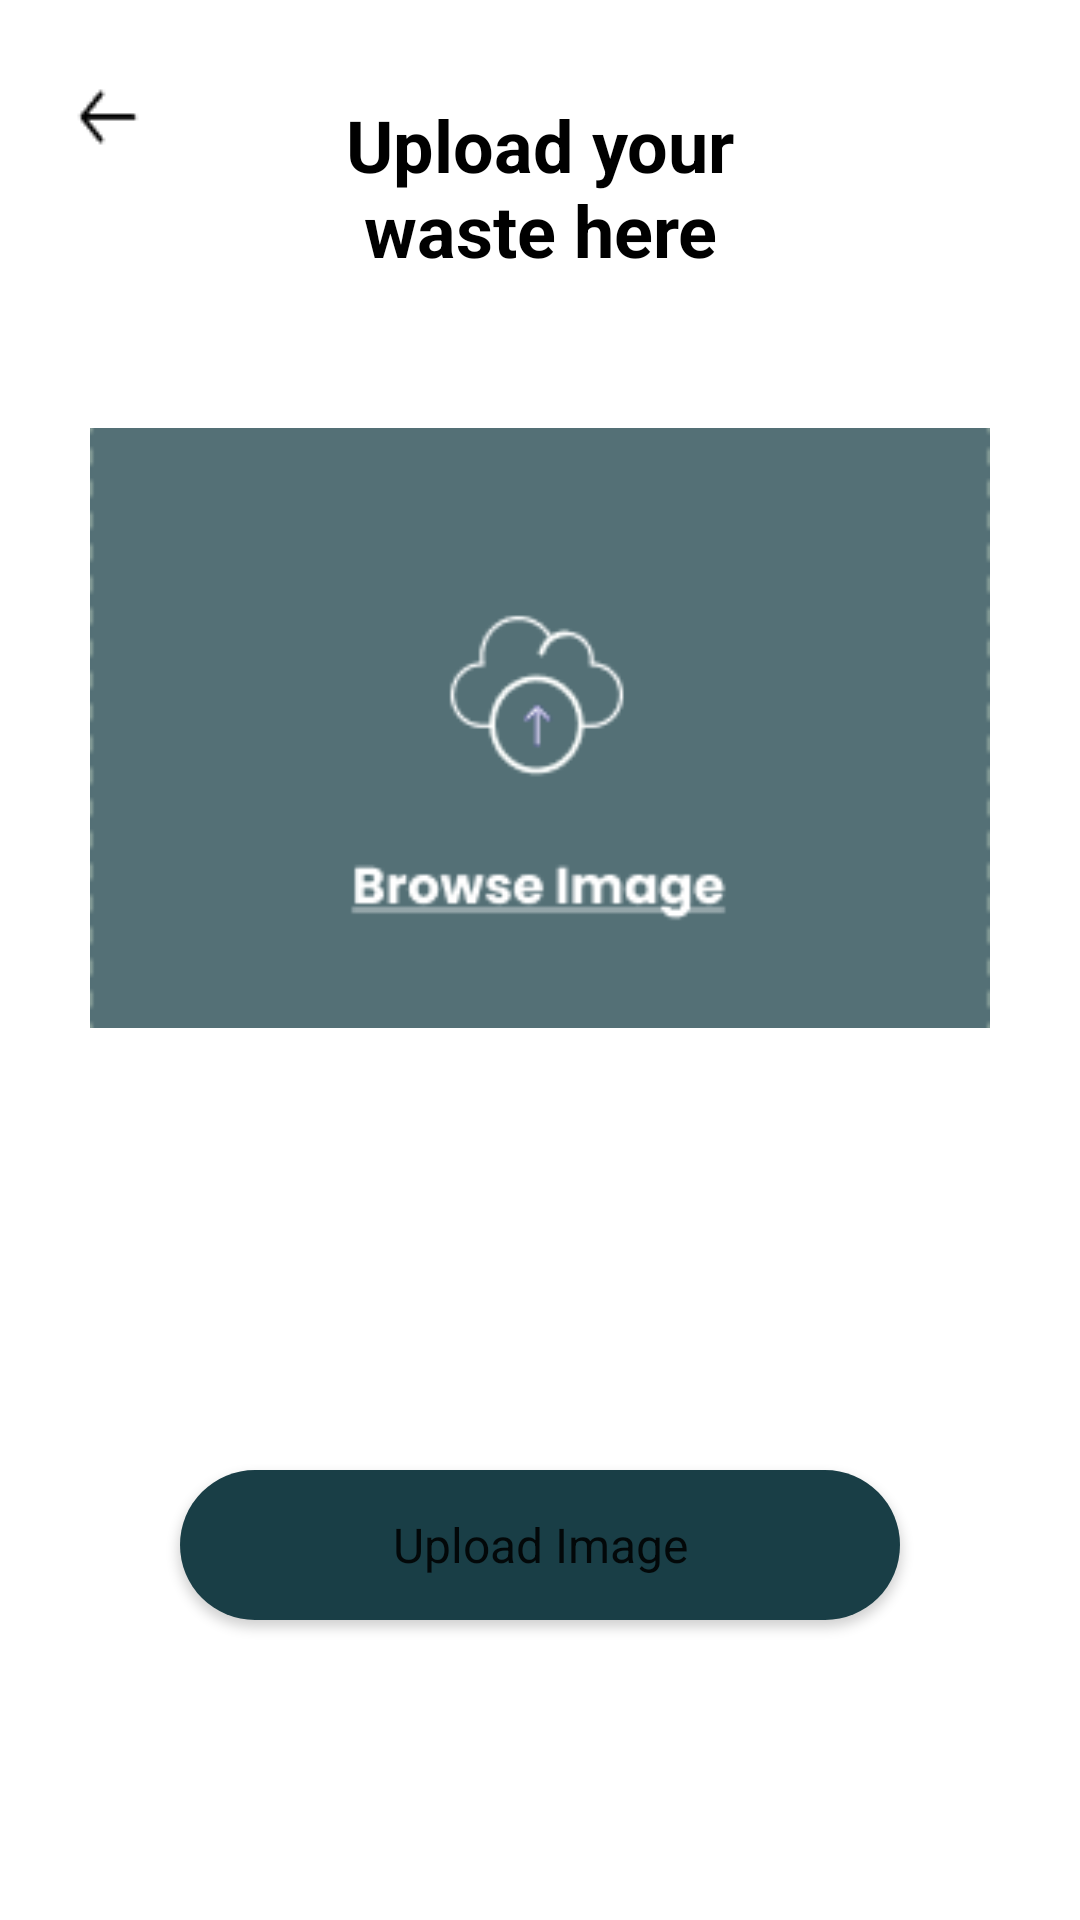

Icons on this 1080*1920 Android screen, each with the point to tap as [x,y]:
back: [108,117]
